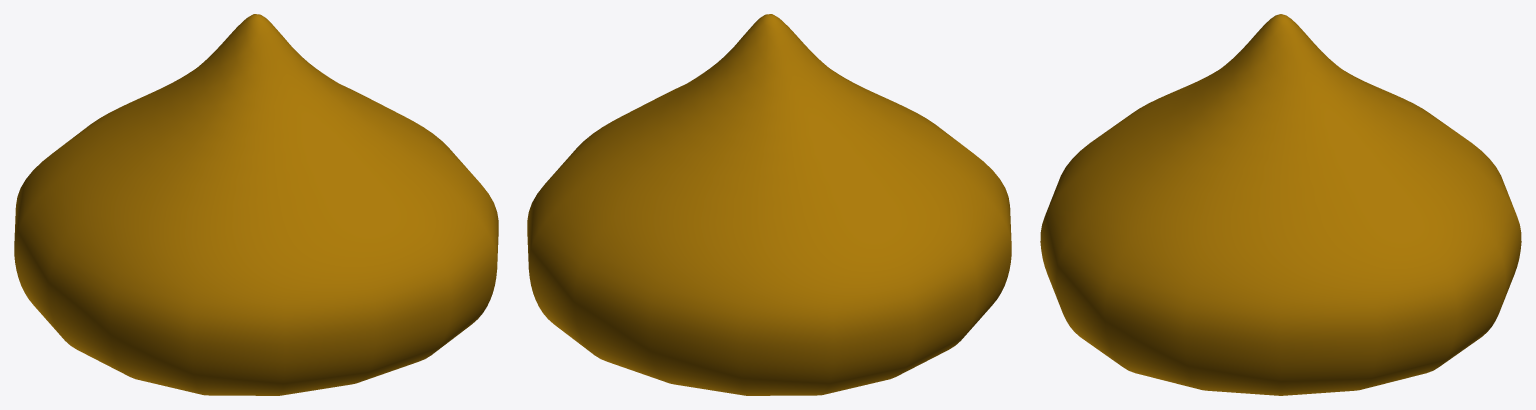
File: onion.FBX
The picture shows the model from 3 angles, left to right: view 1: azimuth 30°, elevation 25°; view 2: azimuth 150°, elevation 25°; view 3: azimuth 270°, elevation 25°; orthographic projection.
Parts seen in each view (by area): view 1: Box001; view 2: Box001; view 3: Box001.
Boxes of the visible parts, <box> form: Box001: <box>14,14,498,395</box>; Box001: <box>527,14,1011,395</box>; Box001: <box>1040,14,1521,395</box>.
Bounding box in the file's own units: 85.3 × 85.3 × 73.01.
1 material, 1 textured.
